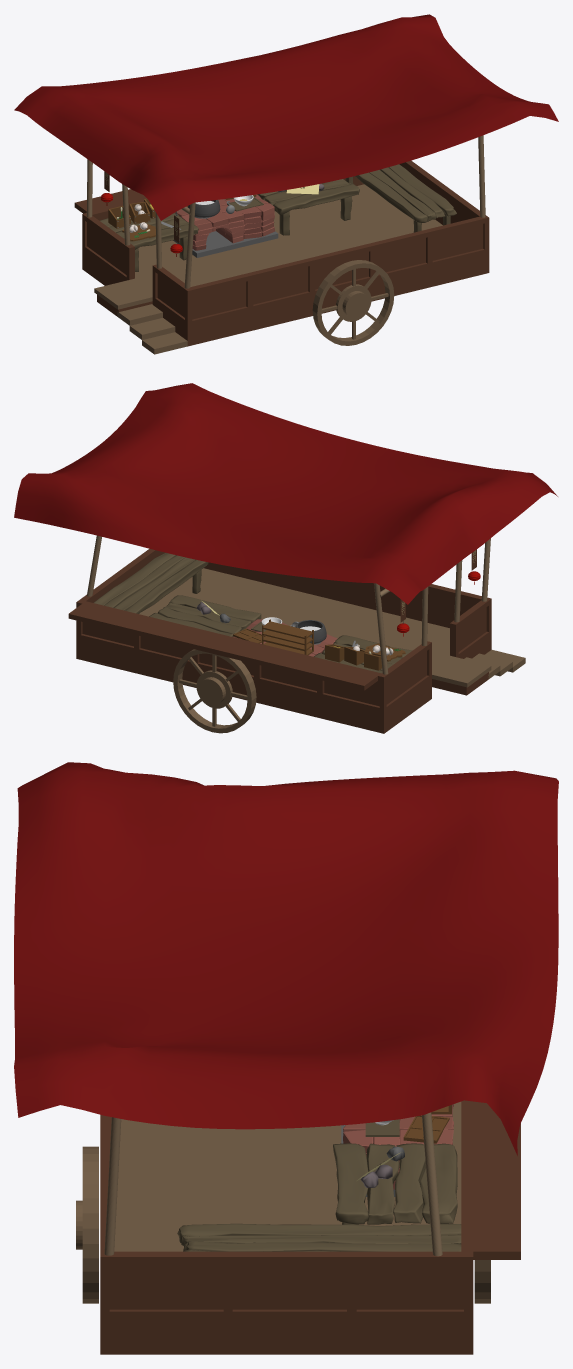
File: EstacionV2.fbx
3 renders of one model, top to bottom at view 1: azimuth 30°, elevation 25°; view 2: azimuth 150°, elevation 25°; view 3: azimuth 270°, elevation 25°, orthographic. The views are drawn at different scales.
Visible parts, largest first — view 1: Lona, Carrito, Piso, Ruedas, BaseEscalera, MesaEmplatado, ESTUFAV2.002, PatasMesaEx, Mesa, PISO, Soporte4, Soporte5; view 2: Lona, Carrito, Piso, Ruedas, MesaEmplatado, BaseEscalera, PatasMesaEx, ESPECIAS1, Mesa, Soporte1; view 3: Lona, Carrito, Piso, PatasMesaEx, MesaEmplatado, Ruedas, Soporte6, ESTUFAV2.002, Soporte5.
Part boxes in pixels (<box>): Lona: <box>14,14,558,220</box>; Carrito: <box>74,160,489,346</box>; Piso: <box>135,184,442,290</box>; Ruedas: <box>312,260,394,345</box>; BaseEscalera: <box>94,278,187,354</box>; MesaEmplatado: <box>345,164,456,232</box>; ESTUFAV2.002: <box>174,194,274,250</box>; PatasMesaEx: <box>257,179,359,235</box>; Mesa: <box>100,213,198,249</box>; PISO: <box>173,231,278,257</box>; Soporte4: <box>184,202,195,288</box>; Soporte5: <box>478,135,485,217</box>; Lona: <box>14,383,557,604</box>; Carrito: <box>68,548,491,733</box>; Piso: <box>139,568,449,668</box>; Ruedas: <box>173,649,256,733</box>; MesaEmplatado: <box>94,552,208,613</box>; BaseEscalera: <box>432,649,525,695</box>; PatasMesaEx: <box>149,595,261,636</box>; ESPECIAS1: <box>262,619,313,655</box>; Mesa: <box>314,635,412,673</box>; Soporte1: <box>374,583,388,674</box>; Lona: <box>14,762,558,1155</box>; Carrito: <box>100,1100,520,1354</box>; Piso: <box>114,1101,461,1251</box>; PatasMesaEx: <box>333,1143,457,1224</box>; MesaEmplatado: <box>177,1223,461,1251</box>; Ruedas: <box>76,1146,490,1303</box>; Soporte6: <box>422,1112,442,1256</box>; ESTUFAV2.002: <box>343,1104,453,1189</box>; Soporte5: <box>104,1117,121,1255</box>.
Size of the model in its own units: 10.36 by 5.29 by 6.93.
